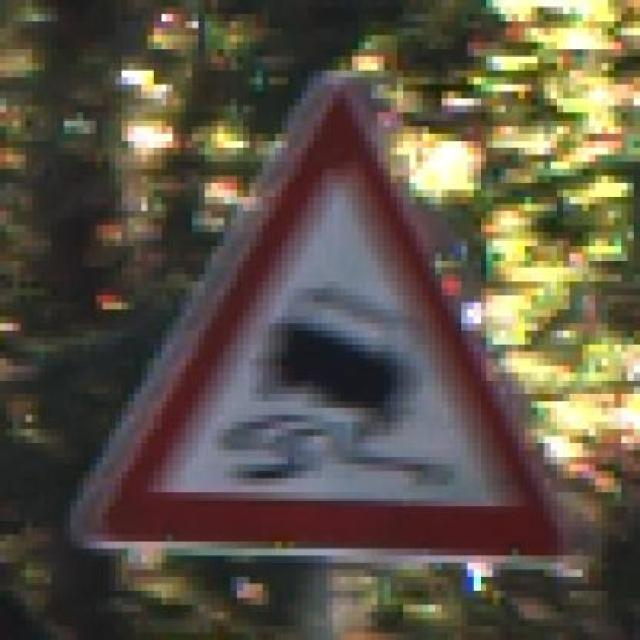Slippery Road Ahead: (51, 78, 583, 570)
